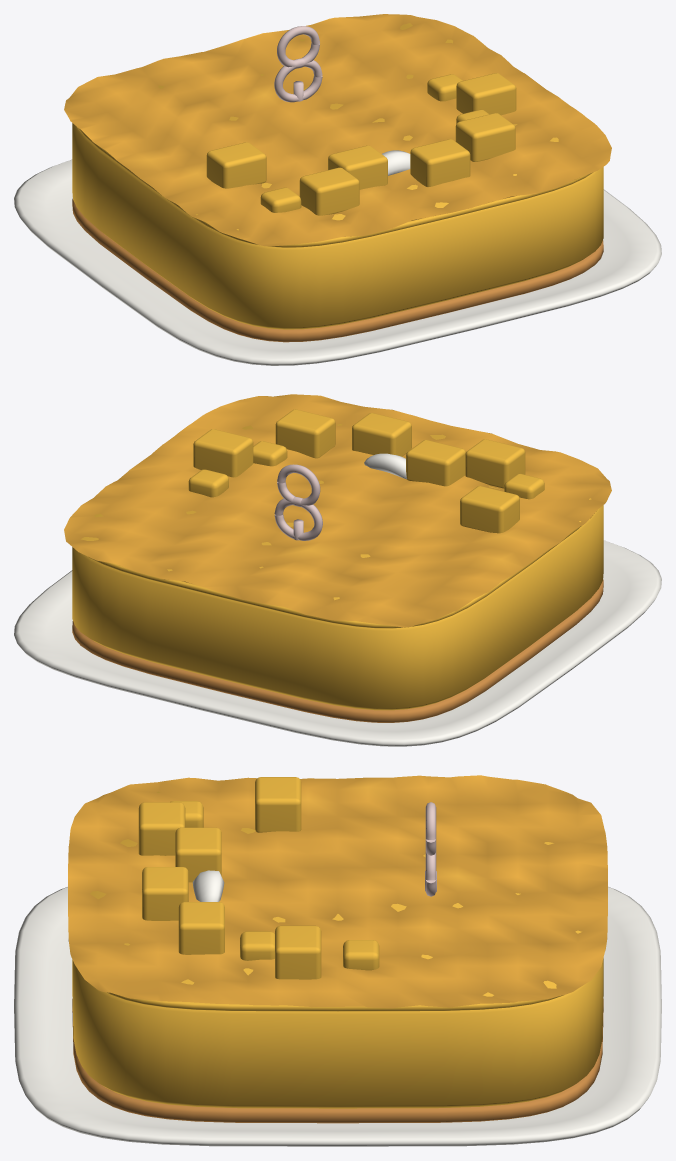
The model's file is cake-08.9b2981c0d41a.glb.
The picture shows the model from 3 angles, top to bottom: view 1: azimuth 30°, elevation 25°; view 2: azimuth 150°, elevation 25°; view 3: azimuth 270°, elevation 25°; orthographic projection. The views are drawn at different scales.
Visible parts, largest first — view 1: Irregular_hand_spread_food_surface, PART_FOOD_ROOT_MAT_mango, Clean_porcelain_plate, Thin_sponge_foundation, PART_FOOD_ROOT_MAT_number_wax, Short_fresh_cream; view 2: Irregular_hand_spread_food_surface, PART_FOOD_ROOT_MAT_mango, Clean_porcelain_plate, Thin_sponge_foundation, PART_FOOD_ROOT_MAT_number_wax, Short_fresh_cream; view 3: Irregular_hand_spread_food_surface, PART_FOOD_ROOT_MAT_mango, Clean_porcelain_plate, Thin_sponge_foundation, PART_FOOD_ROOT_MAT_number_wax, Short_fresh_cream.
Part boxes in pixels (x1,y1,x2,y2): Irregular_hand_spread_food_surface: [64, 14, 611, 246]; PART_FOOD_ROOT_MAT_mango: [72, 23, 603, 329]; Clean_porcelain_plate: [14, 159, 661, 365]; Thin_sponge_foundation: [72, 198, 603, 342]; PART_FOOD_ROOT_MAT_number_wax: [274, 26, 322, 102]; Short_fresh_cream: [382, 150, 410, 175]; Irregular_hand_spread_food_surface: [64, 394, 611, 627]; PART_FOOD_ROOT_MAT_mango: [72, 409, 603, 710]; Clean_porcelain_plate: [14, 540, 661, 746]; Thin_sponge_foundation: [72, 579, 603, 722]; PART_FOOD_ROOT_MAT_number_wax: [274, 464, 322, 540]; Short_fresh_cream: [364, 453, 406, 479]; Irregular_hand_spread_food_surface: [68, 775, 607, 1008]; PART_FOOD_ROOT_MAT_mango: [72, 777, 603, 1108]; Clean_porcelain_plate: [14, 887, 661, 1146]; Thin_sponge_foundation: [72, 999, 603, 1123]; PART_FOOD_ROOT_MAT_number_wax: [425, 802, 436, 896]; Short_fresh_cream: [192, 870, 224, 901].
Bounding box in the file's own units: 0.1952 × 0.072 × 0.1952.
